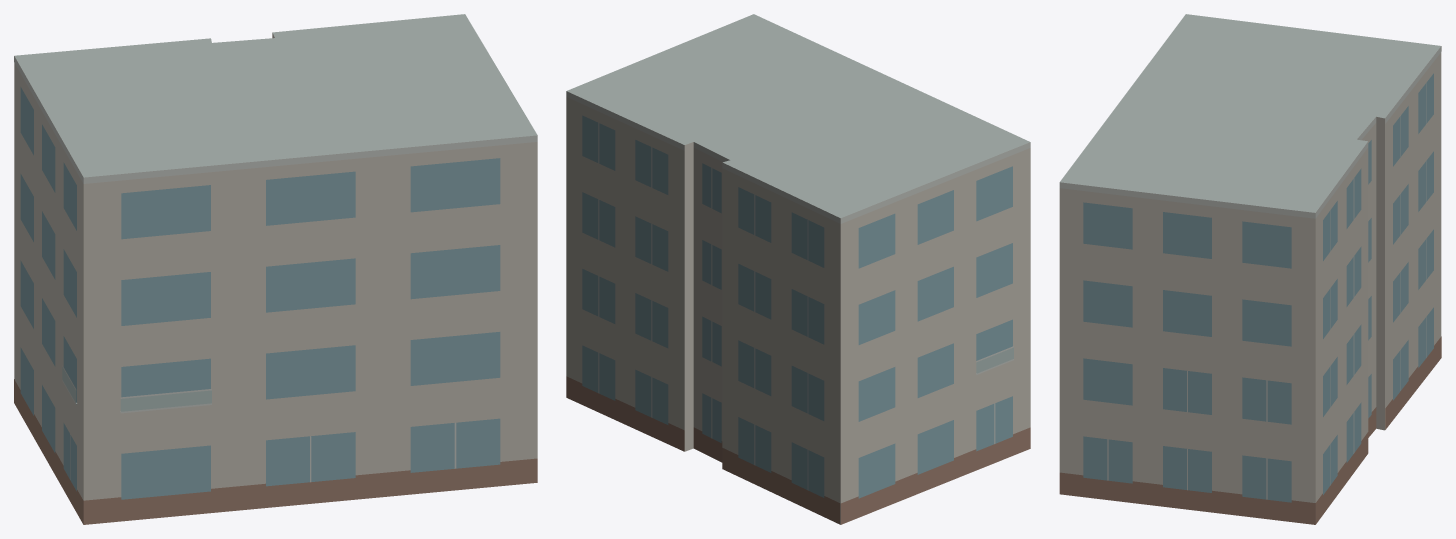
The model's file is survey-upis-32905909.glb.
3 renders of one model, left to right at view 1: azimuth 30°, elevation 25°; view 2: azimuth 150°, elevation 25°; view 3: azimuth 270°, elevation 25°, orthographic. The views are drawn at different scales.
Visible parts, largest first — view 1: survey-upis-32905909.tmp; view 2: survey-upis-32905909.tmp; view 3: survey-upis-32905909.tmp.
Boxes of the visible parts, left/top/right/bottom form: survey-upis-32905909.tmp: left=14, top=14, right=537, bottom=524; survey-upis-32905909.tmp: left=566, top=14, right=1030, bottom=524; survey-upis-32905909.tmp: left=1059, top=14, right=1441, bottom=524.
Size of the model in its own units: 17.92 by 13.1 by 14.54.
